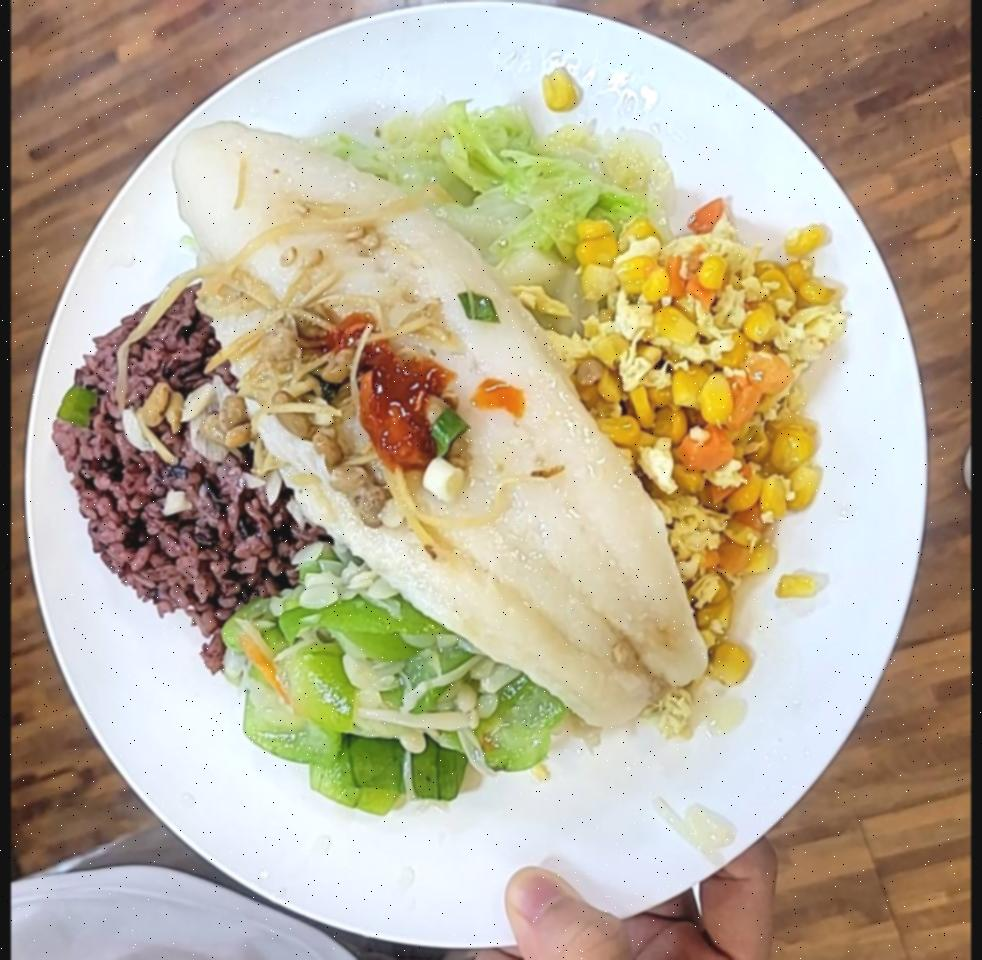plate: (21, 0, 942, 946)
purple rice: (50, 266, 295, 642)
side dish: (574, 216, 846, 657), (213, 542, 560, 821), (320, 113, 638, 304)
steamed fish fillet: (143, 123, 720, 726)
